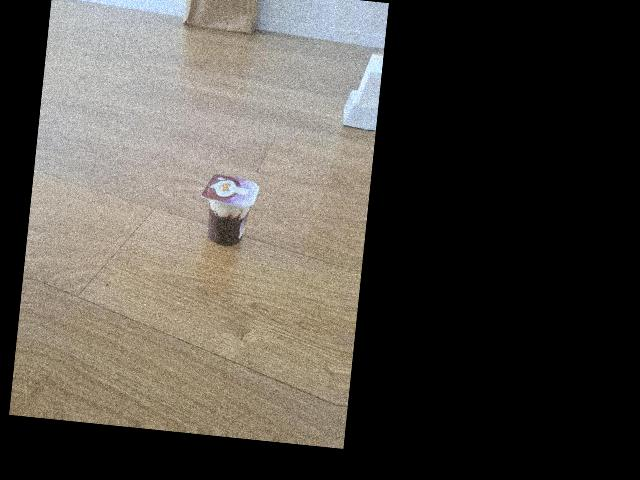milky: (195, 173, 259, 254)
